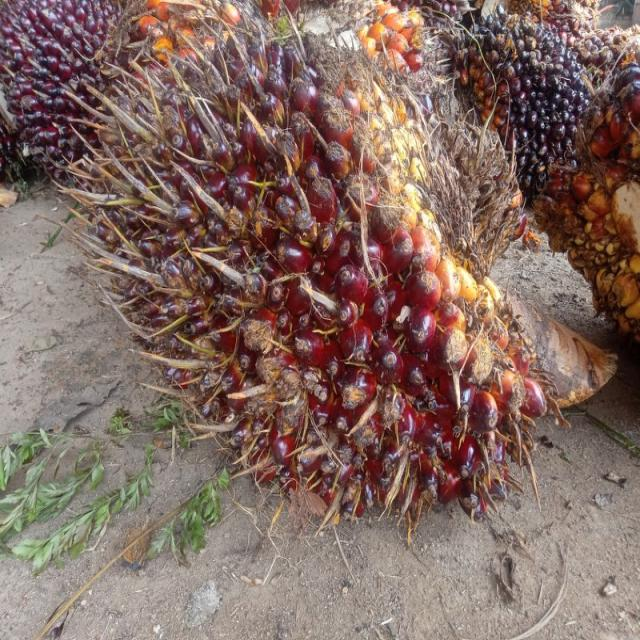fraksi 1: (98, 20, 564, 506)
